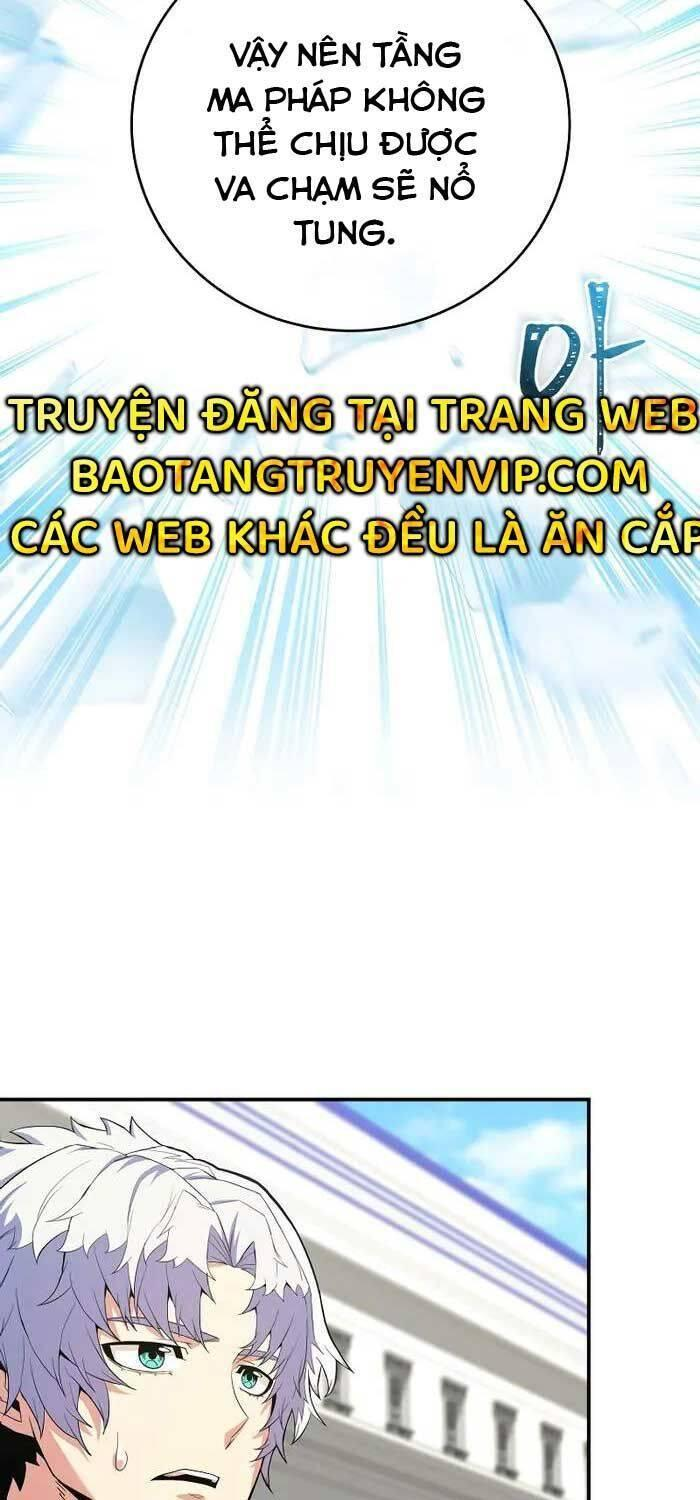quangcao: (0, 374, 700, 602)
